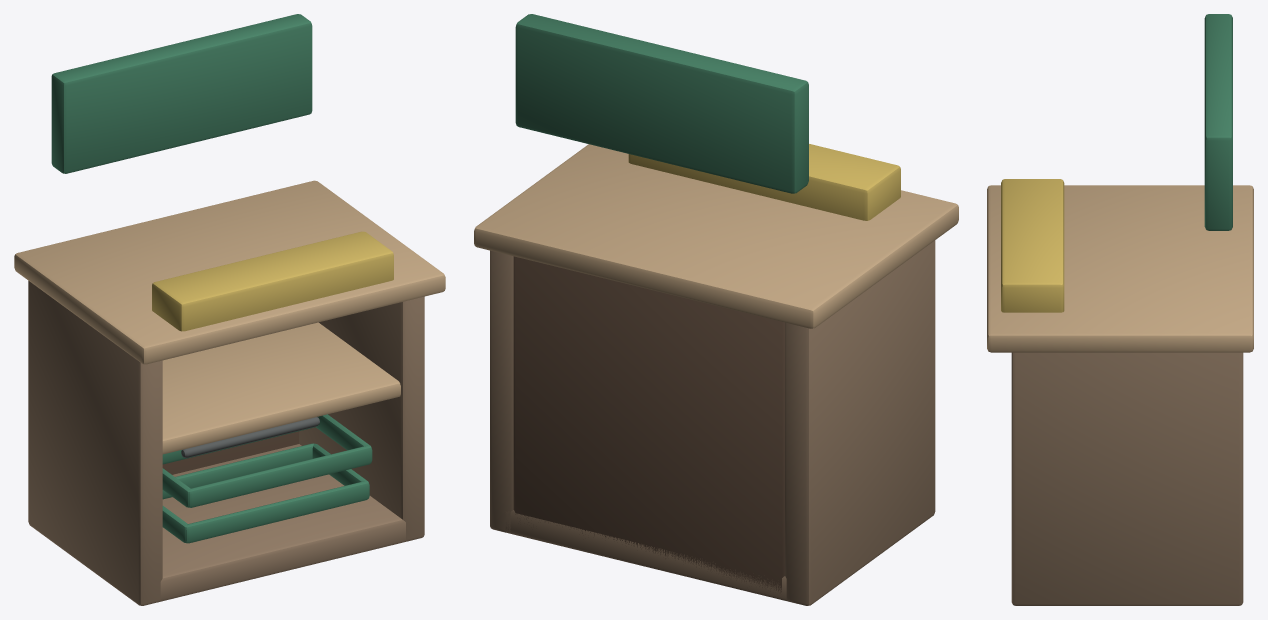
The model's file is basket_station.glb.
3 views of the same model, side by side, from view 1: azimuth 30°, elevation 25°; view 2: azimuth 150°, elevation 25°; view 3: azimuth 270°, elevation 25° (orthographic). The views are drawn at different scales.
Parts seen in each view (by area): view 1: basket_station; view 2: basket_station; view 3: basket_station.
Part boxes in pixels (<box>): basket_station: <box>14,14,445,605</box>; basket_station: <box>474,14,958,605</box>; basket_station: <box>987,14,1253,605</box>.
Bounding box in the file's own units: 1.02 × 1.45 × 0.76.
